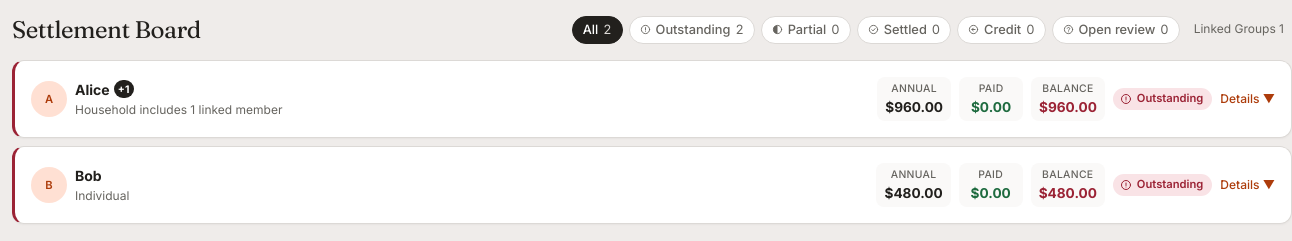
Test: SettlementBoard › shows "no households" message when filter has no matches
Click the button "Settled 0".
click(904, 30)  # box x1=857 y1=16 x2=951 y2=44
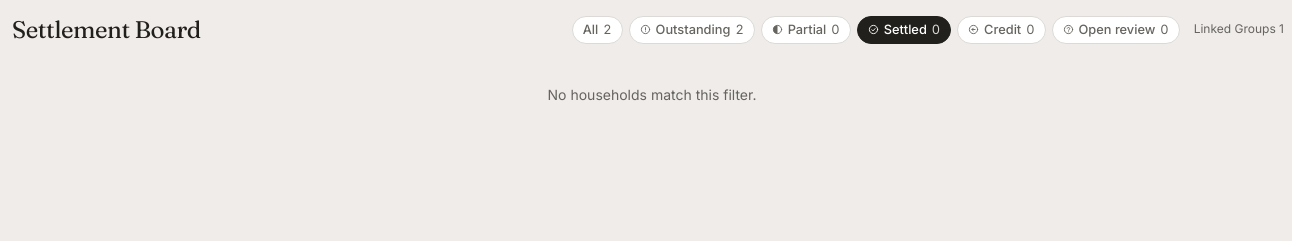
Expected: the text "No households match this filter." is shown, x1=548 y1=86 x2=756 y2=103
